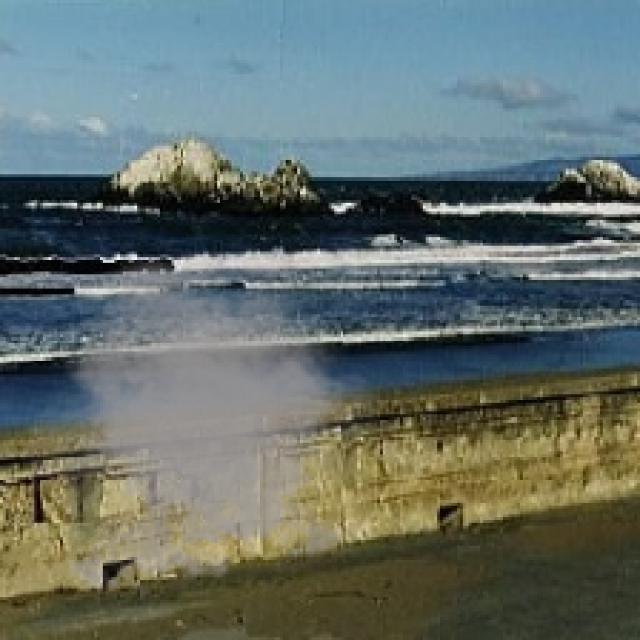smoke: (9, 254, 400, 600)
